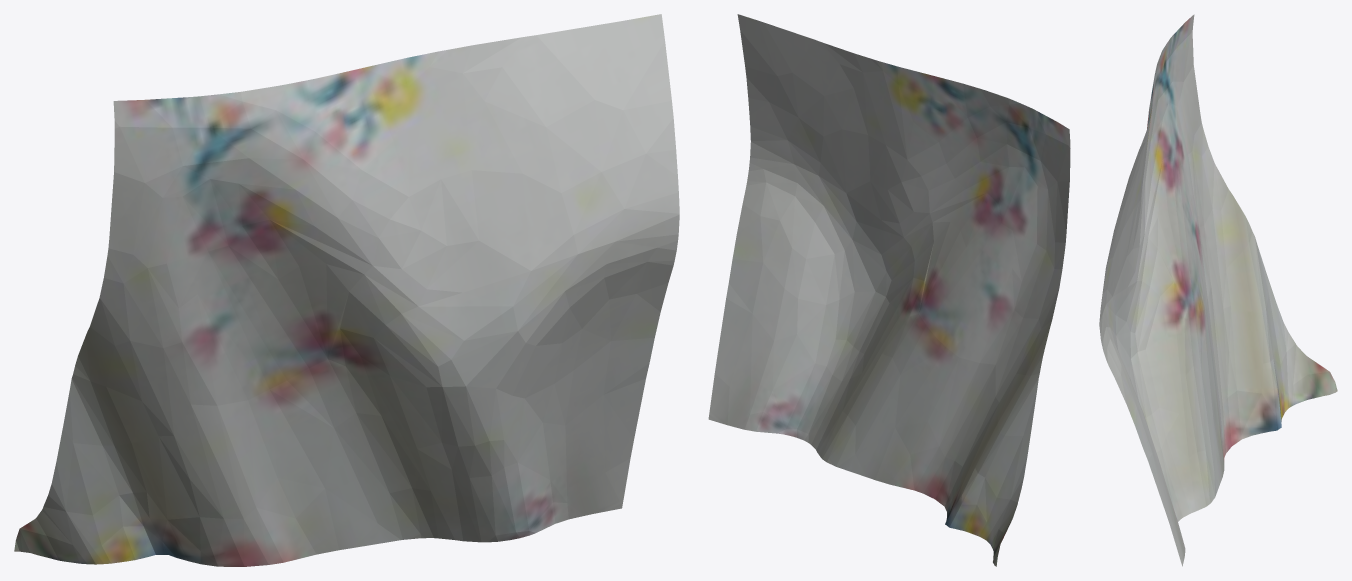
3 views of the same model, side by side, from view 1: azimuth 30°, elevation 25°; view 2: azimuth 150°, elevation 25°; view 3: azimuth 270°, elevation 25° (orthographic). The views are drawn at different scales.
Visible parts, largest first — view 1: 091_W_Aya_100K_01; view 2: 091_W_Aya_100K_01; view 3: 091_W_Aya_100K_01.
Boxes of the visible parts, x1,y1,x2,y2 form: 091_W_Aya_100K_01: [14, 14, 679, 566]; 091_W_Aya_100K_01: [708, 14, 1070, 566]; 091_W_Aya_100K_01: [1099, 14, 1337, 566].
Bounding box in the file's own units: 85.74 × 85.74 × 49.12.
Materials: 1 (1 with a texture image).
